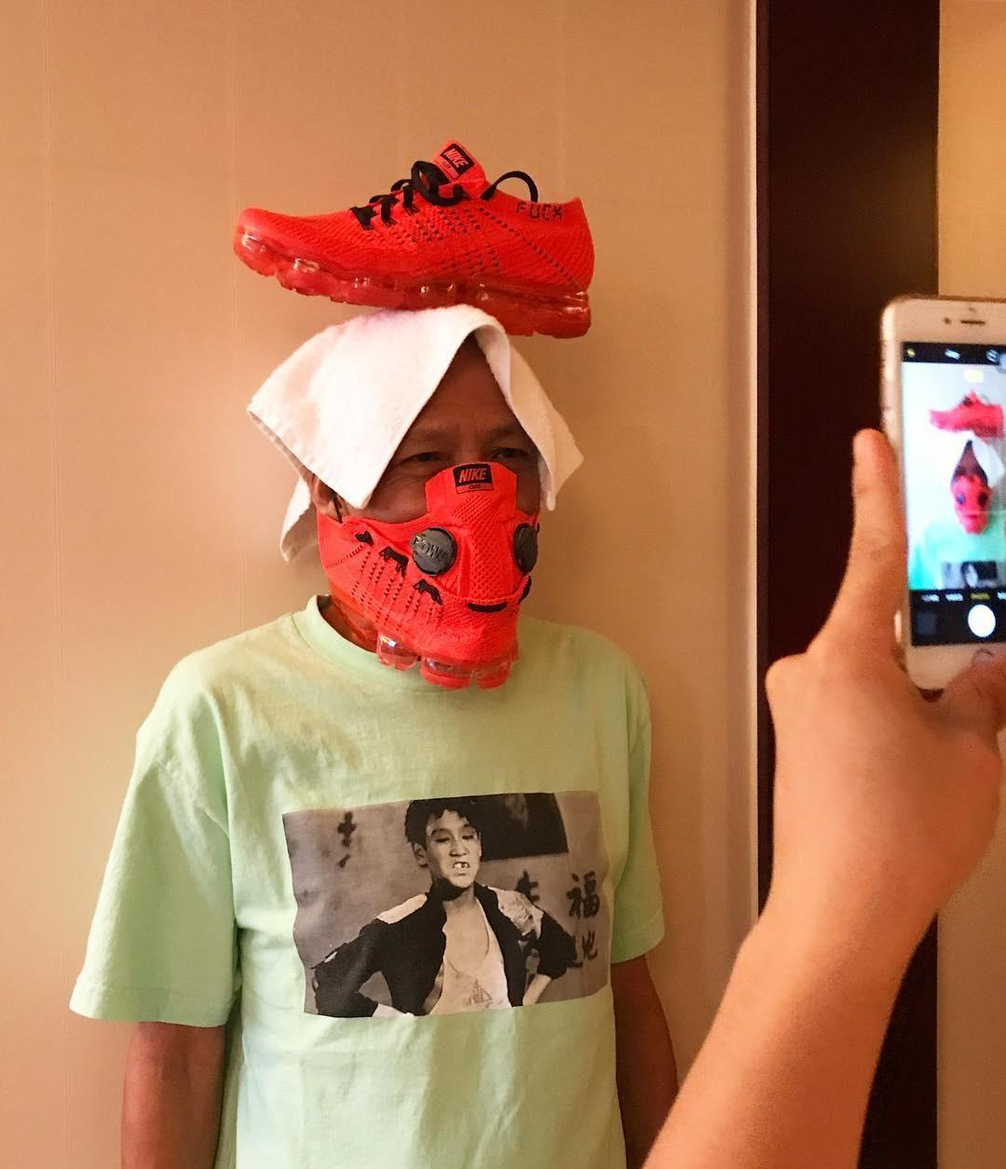OK: (323, 397, 578, 652)
